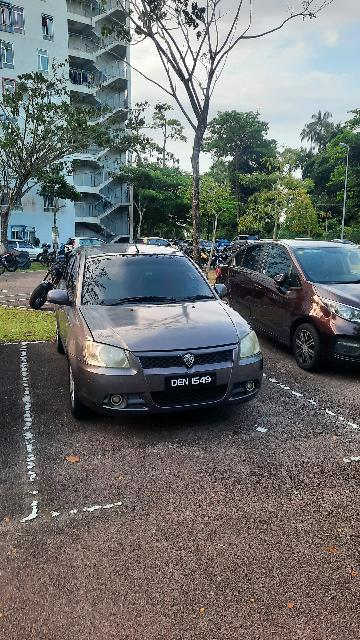License_Plate: (162, 370, 221, 393)
car: (47, 243, 266, 423)
